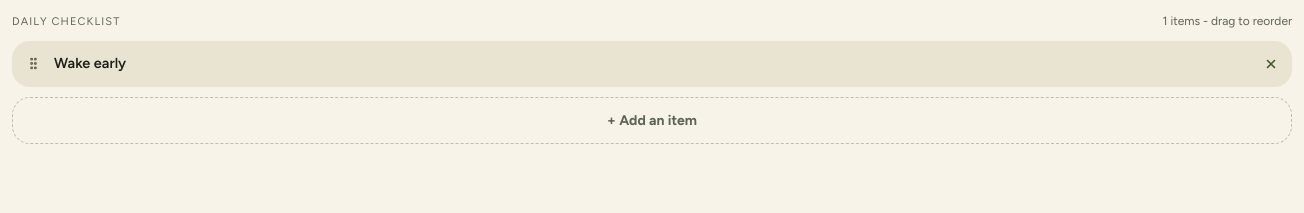
Test: ChecklistDraftEditor › adds a new default row and reports the grown list
Click the button "+ Add an item": (652, 120) [12,96,1292,144]
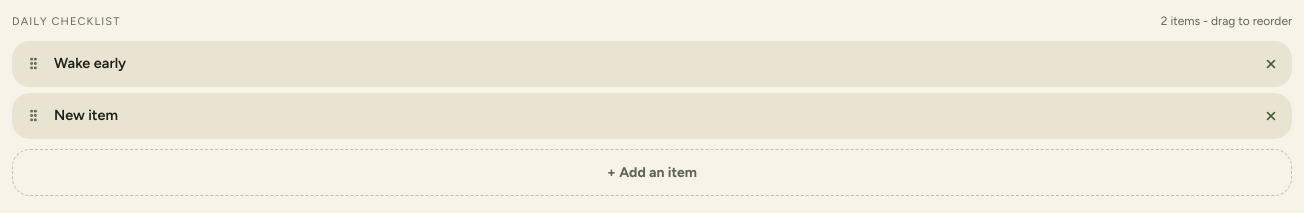
expect the 2nd field showing "New item" is shown: met, box [54,105,1250,126]
